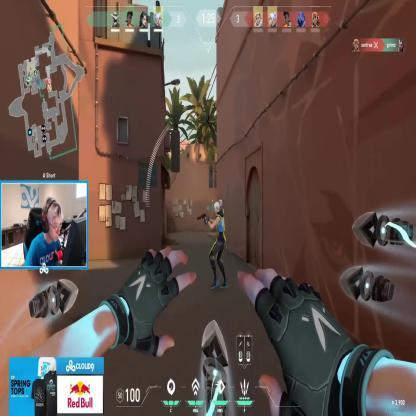enemy: (204, 198, 228, 291)
enemy_head: (213, 200, 223, 214)
